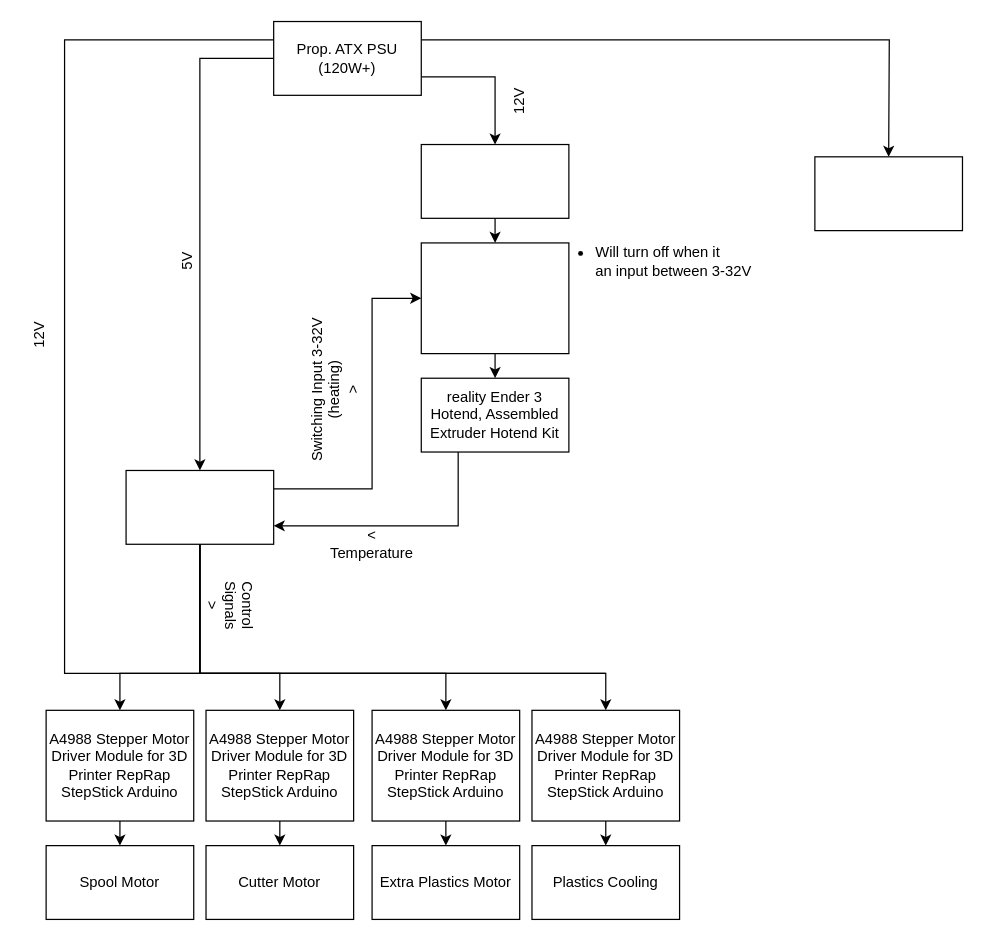
Some shapes in this 984 by 941 pixel diagram are drawn without their labels. Here are the shapes that lost their labels. From the top down, the box of each, then its label:
(420, 143, 569, 218): DC-DC Adjustable Step Up Module Board 3 5 12V to 19 24 30 36V Boost
(814, 156, 962, 231): Fans
(420, 242, 569, 354): 100A Solid State Relay SSR DC In DC Out
(125, 469, 274, 544): Arduino Pro Micro
